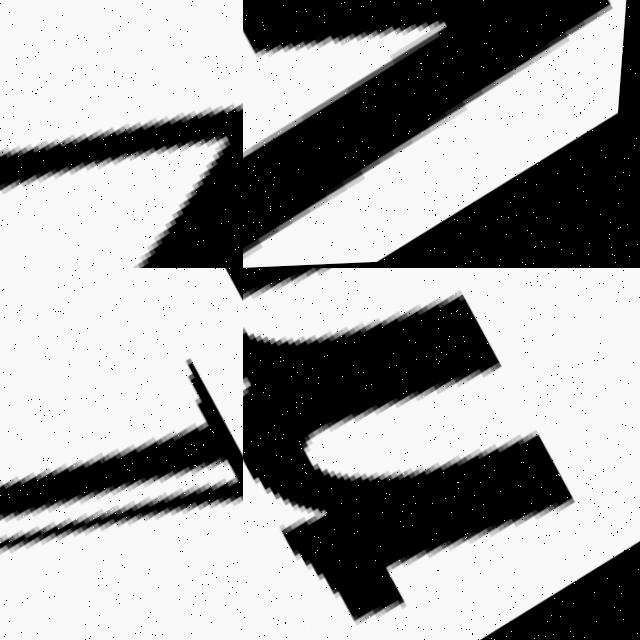1: (0, 268, 243, 640)
M: (243, 268, 620, 640)
V: (0, 0, 243, 268)
W: (243, 0, 640, 268)
